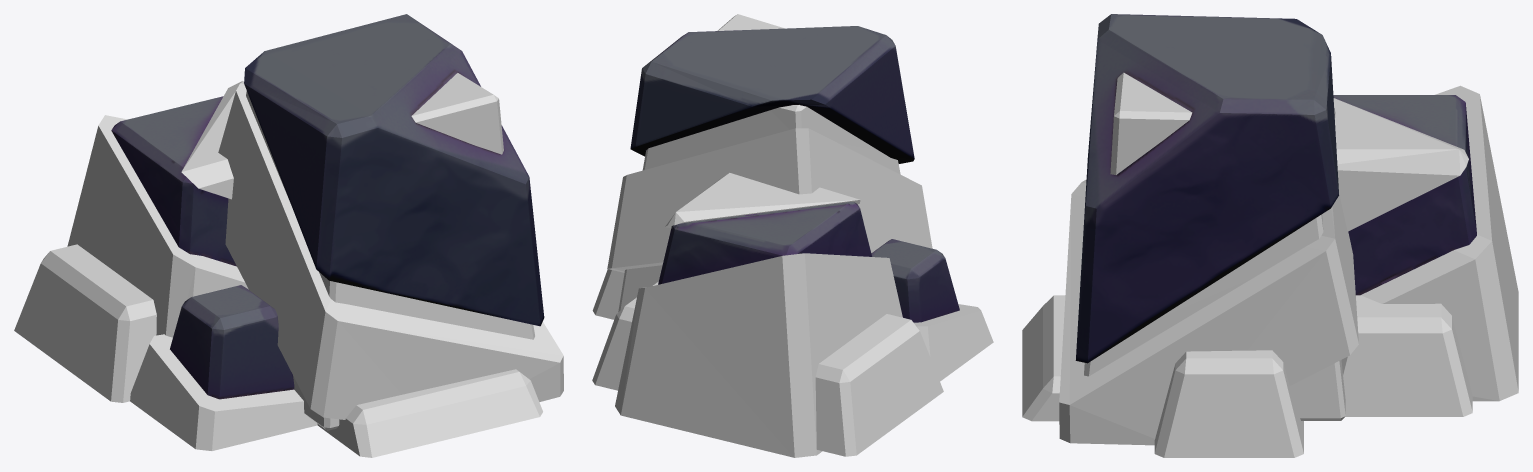
File: Ore_D.fbx
3 renders of one model, left to right at view 1: azimuth 30°, elevation 25°; view 2: azimuth 150°, elevation 25°; view 3: azimuth 270°, elevation 25°, orthographic. The views are drawn at different scales.
Parts seen in each view (by area): view 1: Ore_D; view 2: Ore_D; view 3: Ore_D.
Boxes of the visible parts, x1=… form: Ore_D: x1=14, y1=14, x2=563, y2=457; Ore_D: x1=592, y1=14, x2=993, y2=457; Ore_D: x1=1022, y1=14, x2=1518, y2=457.
Size of the model in its own units: 0.851 by 0.653 by 0.8965.
